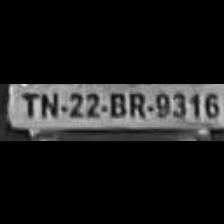1: (186, 86, 201, 118)
2: (62, 88, 84, 118), (82, 88, 102, 118)
3: (168, 86, 186, 118)
6: (200, 88, 220, 118)
9: (148, 86, 170, 118)
B: (104, 88, 126, 118)
N: (37, 86, 59, 118)
R: (125, 86, 147, 118)
T: (16, 86, 36, 118)
